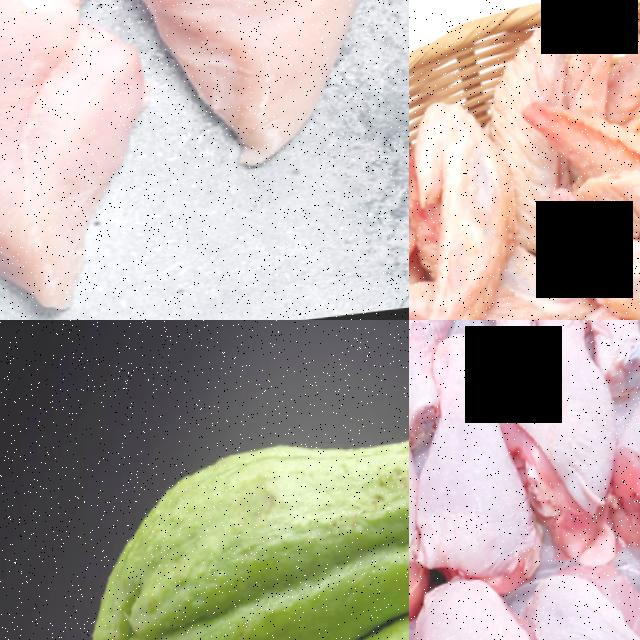chayote: (63, 359, 409, 640)
chicken breast: (0, 0, 142, 320), (123, 0, 403, 133)
chicken thigh: (413, 339, 531, 584), (504, 320, 623, 541), (427, 572, 554, 640), (608, 320, 640, 584), (467, 320, 546, 397), (409, 320, 470, 412)
chicken wing: (409, 89, 537, 320)
